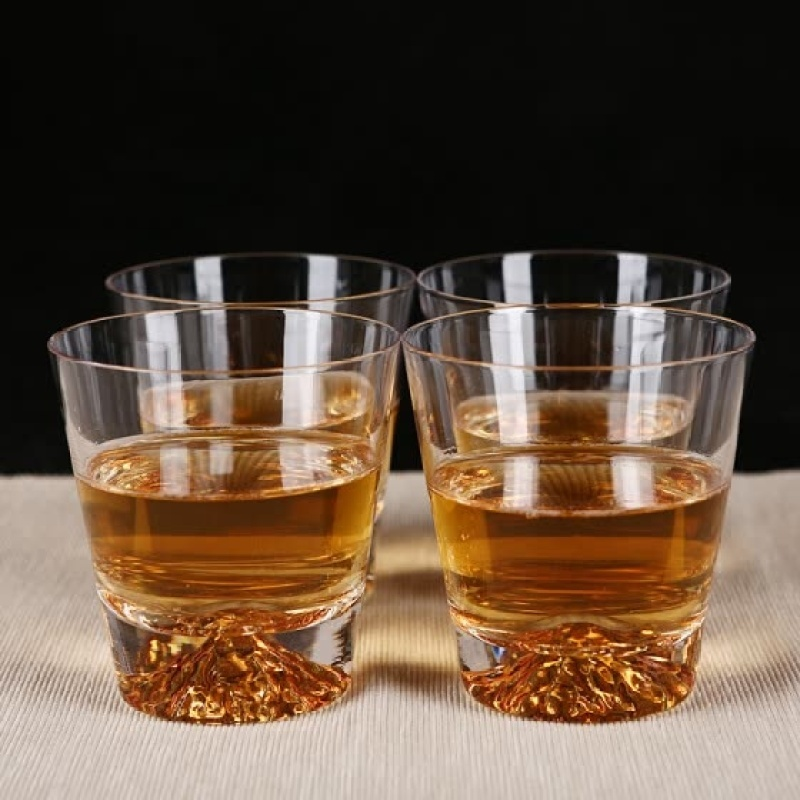whiskey: (48, 308, 391, 721), (408, 305, 747, 718)
